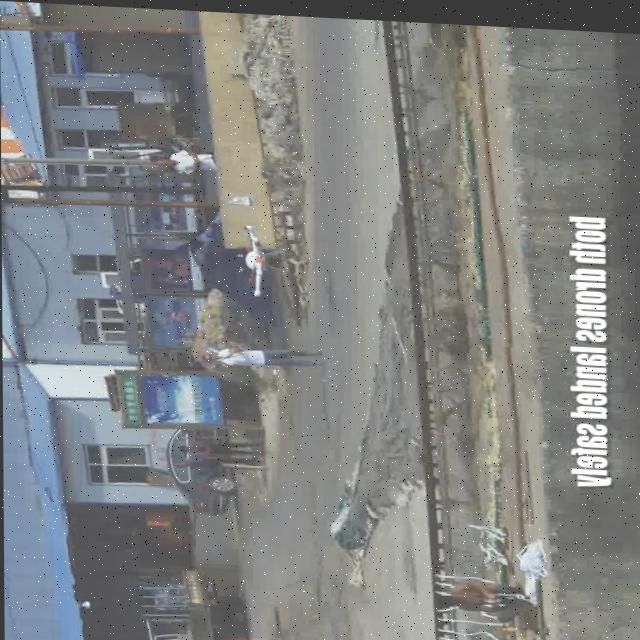drone: (231, 220, 282, 292)
